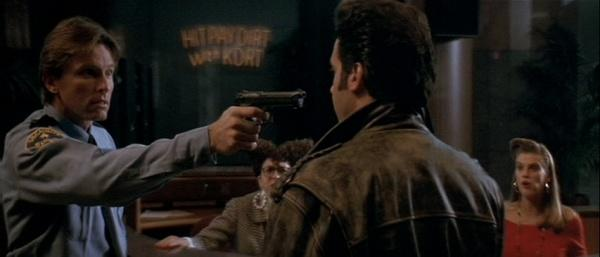Gun: (235, 87, 307, 113)
